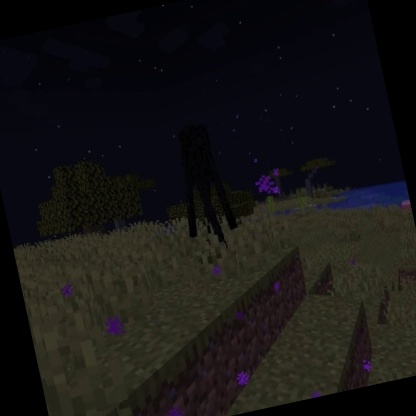enderman: (164, 116, 246, 260)
